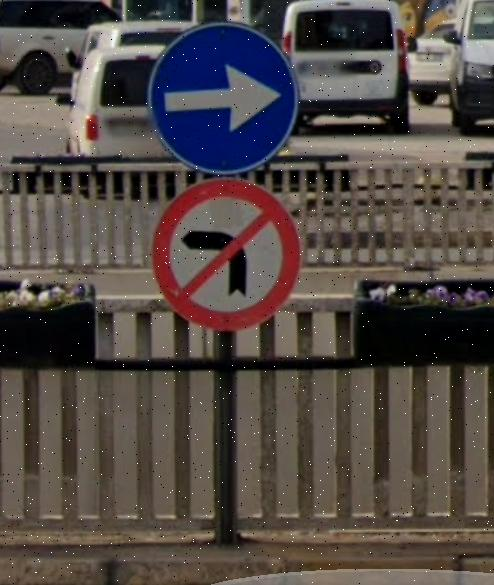leftturnsareforbidden: (168, 186, 286, 324)
turnright: (157, 27, 296, 165)
